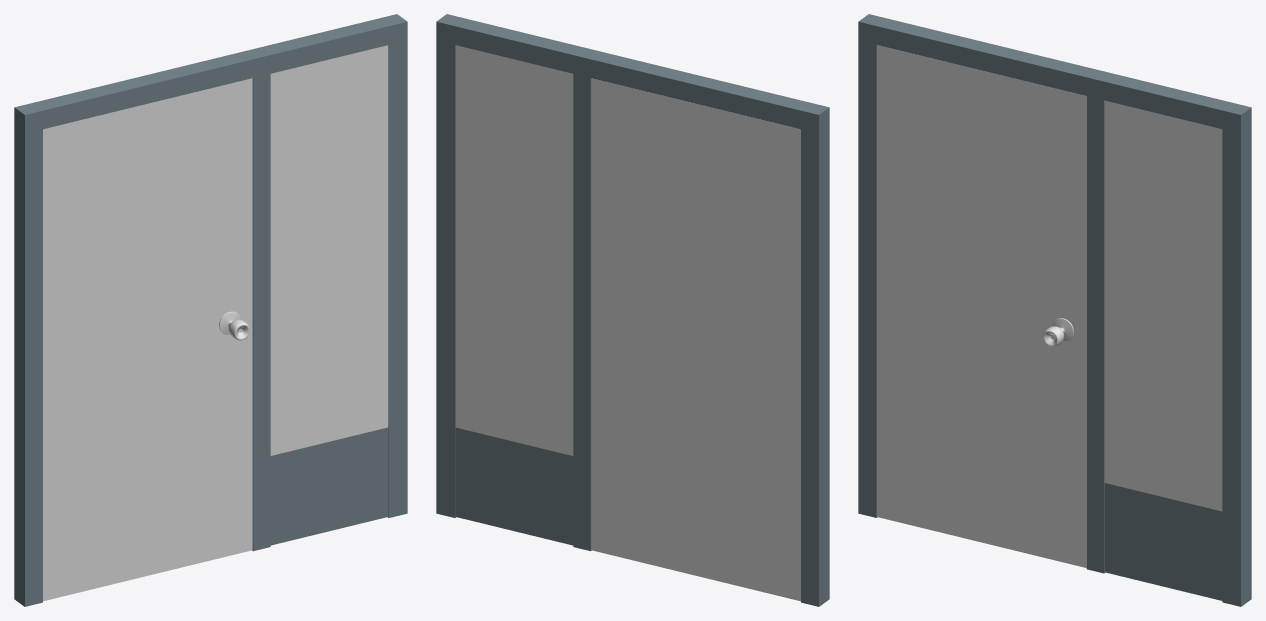
Rendered from door.fbx.
3 views of the same model, side by side, from view 1: azimuth 30°, elevation 25°; view 2: azimuth 150°, elevation 25°; view 3: azimuth 330°, elevation 25° (orthographic).
Visible parts, largest first — view 1: Cube.085; view 2: Cube.085; view 3: Cube.085.
Part boxes in pixels (box(x1,y1,x2,y2)): Cube.085: box(14, 14, 407, 606); Cube.085: box(436, 14, 829, 606); Cube.085: box(858, 14, 1251, 606).
Size of the model in its own units: 459 by 564 by 48.52.
